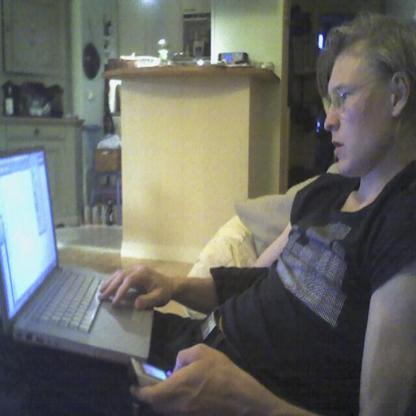board: (0, 175, 154, 366)
